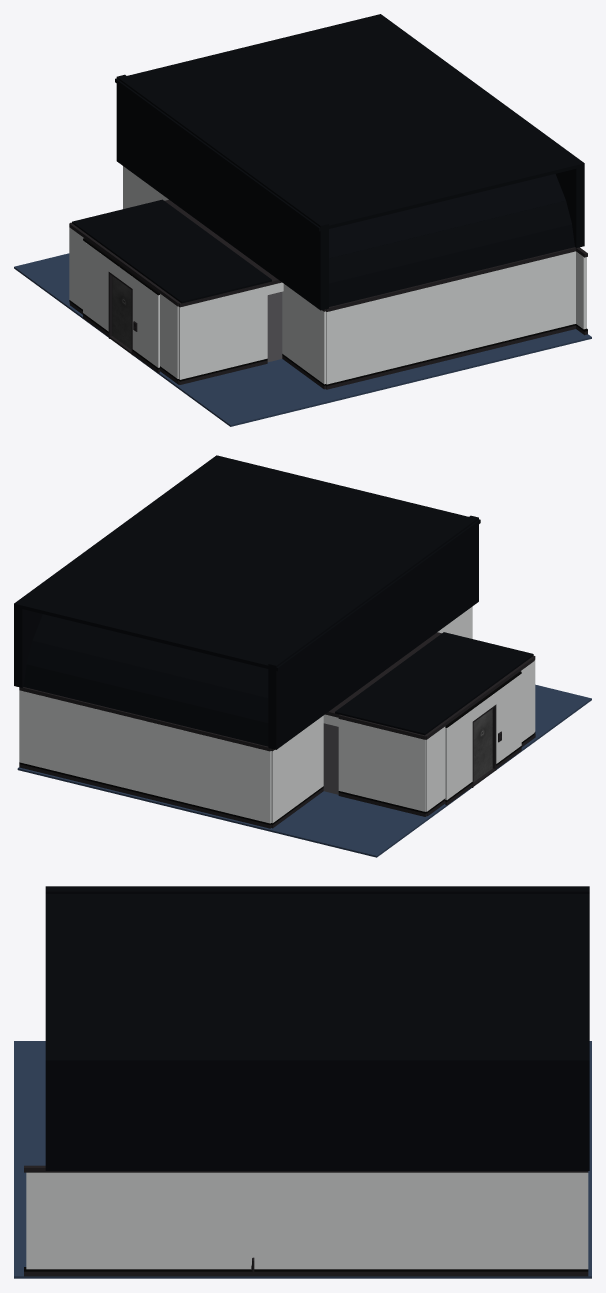
File: SCP 372 Containment Chamber.obj
3 renders of one model, top to bottom at view 1: azimuth 30°, elevation 25°; view 2: azimuth 150°, elevation 25°; view 3: azimuth 270°, elevation 25°, orthographic. The views are drawn at different scales.
Visible parts, largest first — view 1: Part17, Part4, Part131, Part40, Part85, Part14, Part89, Part15, Part16, Part11, Part119, Part35 (+11 smaller); view 2: Part17, Part4, Part127, Part85, Part40, Part7, Part102, Part6, Part5, Part115, Part11, Part173 (+10 smaller); view 3: Part17, Part11, Part123, Part40, Part4, Part125, Part124, Part122.
Part boxes in pixels (box(x1,y1,x2,y2)): Part17: box(115, 14, 577, 231); Part4: box(116, 74, 328, 310); Part131: box(326, 251, 575, 384); Part40: box(14, 253, 591, 426); Part85: box(72, 199, 271, 303); Part14: box(329, 174, 565, 258); Part89: box(178, 286, 267, 379); Part15: box(329, 200, 571, 283); Part16: box(329, 224, 574, 306); Part11: box(373, 14, 584, 247); Part119: box(282, 284, 325, 384); Part35: box(132, 276, 159, 367); Part17: box(14, 456, 480, 671); Part4: box(268, 515, 478, 749); Part127: box(22, 691, 271, 823); Part85: box(335, 632, 533, 735); Part40: box(17, 684, 591, 857); Part7: box(32, 614, 268, 697); Part102: box(338, 719, 425, 811); Part6: box(26, 641, 268, 722); Part5: box(23, 664, 268, 746); Part115: box(271, 715, 323, 823); Part11: box(14, 455, 224, 687); Part173: box(445, 709, 472, 799); Part17: box(45, 894, 589, 1064); Part11: box(45, 1055, 589, 1170); Part123: box(26, 1172, 588, 1269); Part40: box(14, 1041, 591, 1278); Part4: box(45, 886, 589, 893); Part125: box(24, 1271, 588, 1276); Part124: box(24, 1267, 588, 1271); Part122: box(24, 1165, 588, 1172).
Bounding box in the file's own units: 50.29 × 19.4 × 45.46.
Materials: 24 (7 with a texture image).
